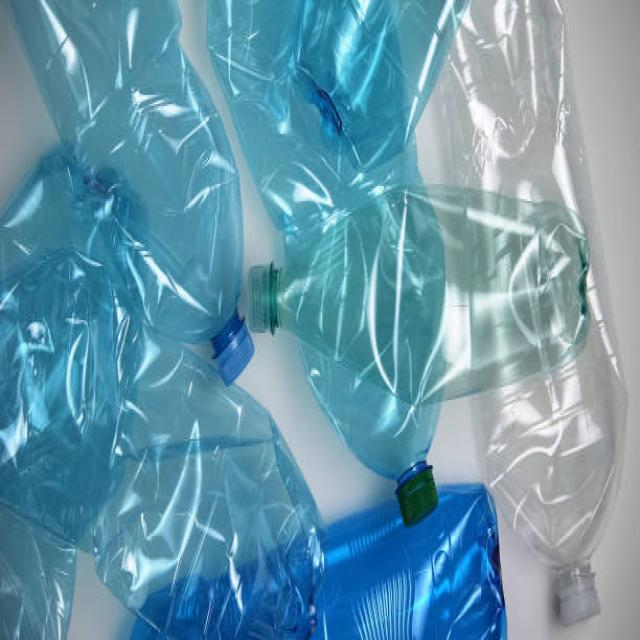plastic: (18, 29, 590, 630)
